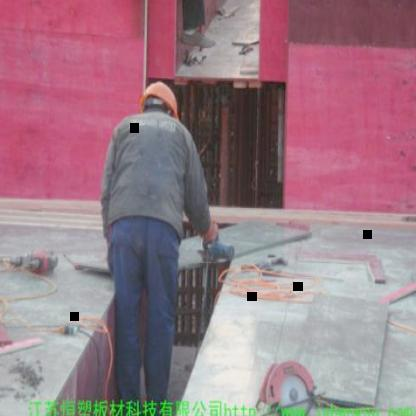helmet: (133, 78, 182, 121)
